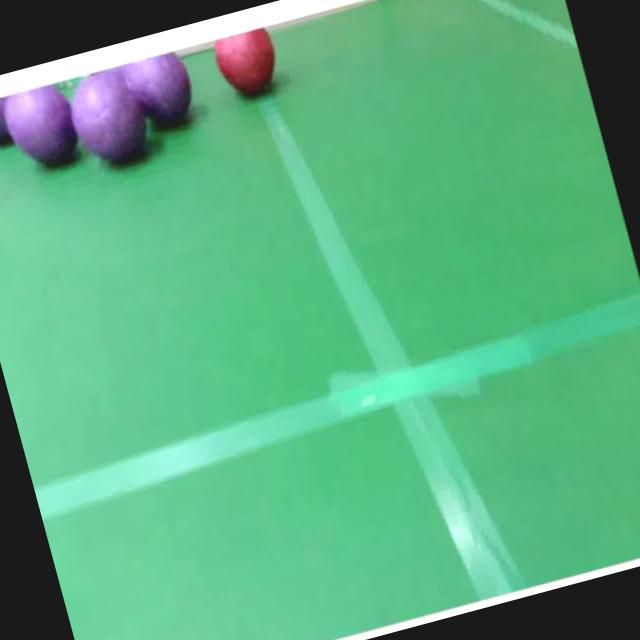purple_ball: (62, 64, 159, 177), (1, 82, 86, 176), (120, 46, 203, 134), (0, 92, 27, 156)
red_ball: (208, 24, 284, 106)
